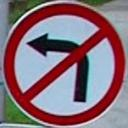NoVirarEsquerda: (2, 0, 127, 124)
